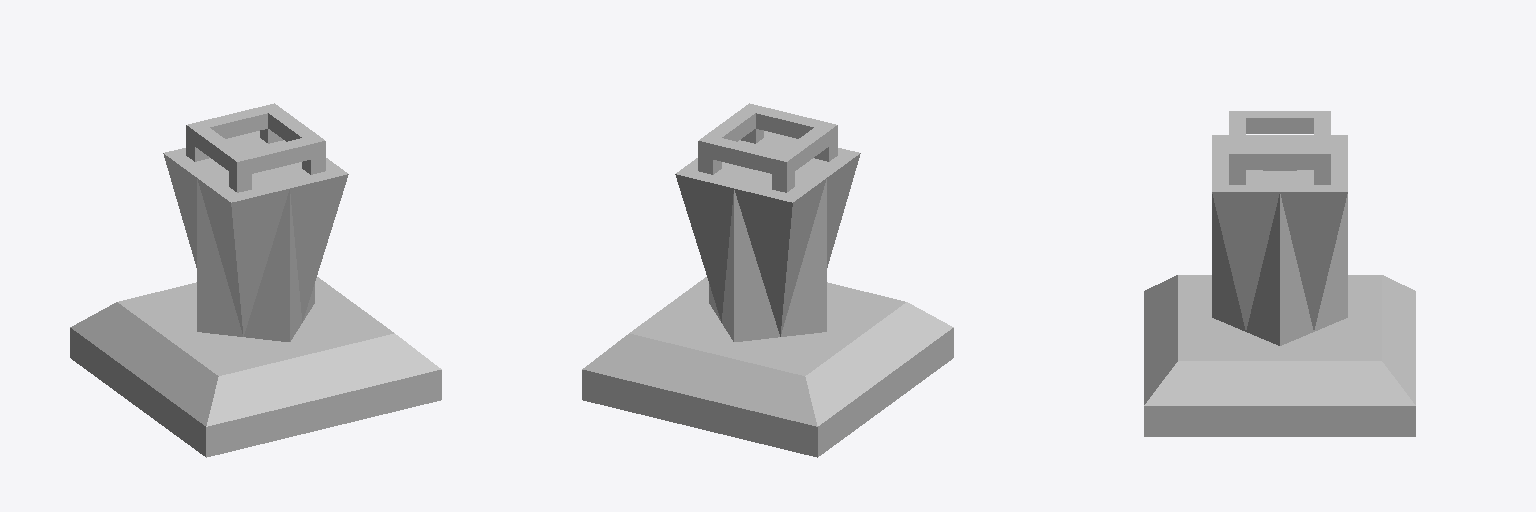
The model's file is shrine.obj.
The picture shows the model from 3 angles: view 1: azimuth 30°, elevation 25°; view 2: azimuth 150°, elevation 25°; view 3: azimuth 270°, elevation 25°; orthographic projection.
Visible parts, largest first — view 1: Cube; view 2: Cube; view 3: Cube.
Boxes of the visible parts, x1=… form: Cube: x1=70, y1=103, x2=441, y2=457; Cube: x1=582, y1=103, x2=953, y2=457; Cube: x1=1144, y1=111, x2=1415, y2=436.
Bounding box in the file's own units: 1 × 1 × 1.